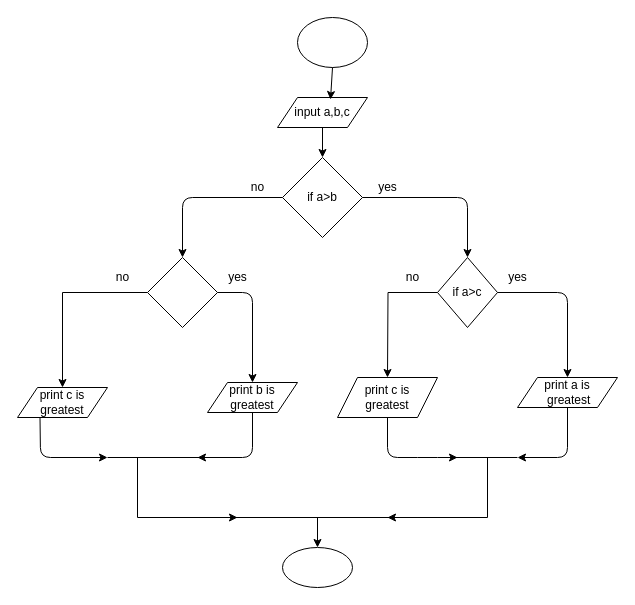
The diagram is 635 pixels wide and 605 high, and some of its shapes have lost their labels. The box of each missing label's shape, as (x1, y1, x2, y2) in pixels:
if b>a: (146, 256, 218, 328)
start: (296, 16, 368, 68)
stop: (282, 546, 352, 588)
